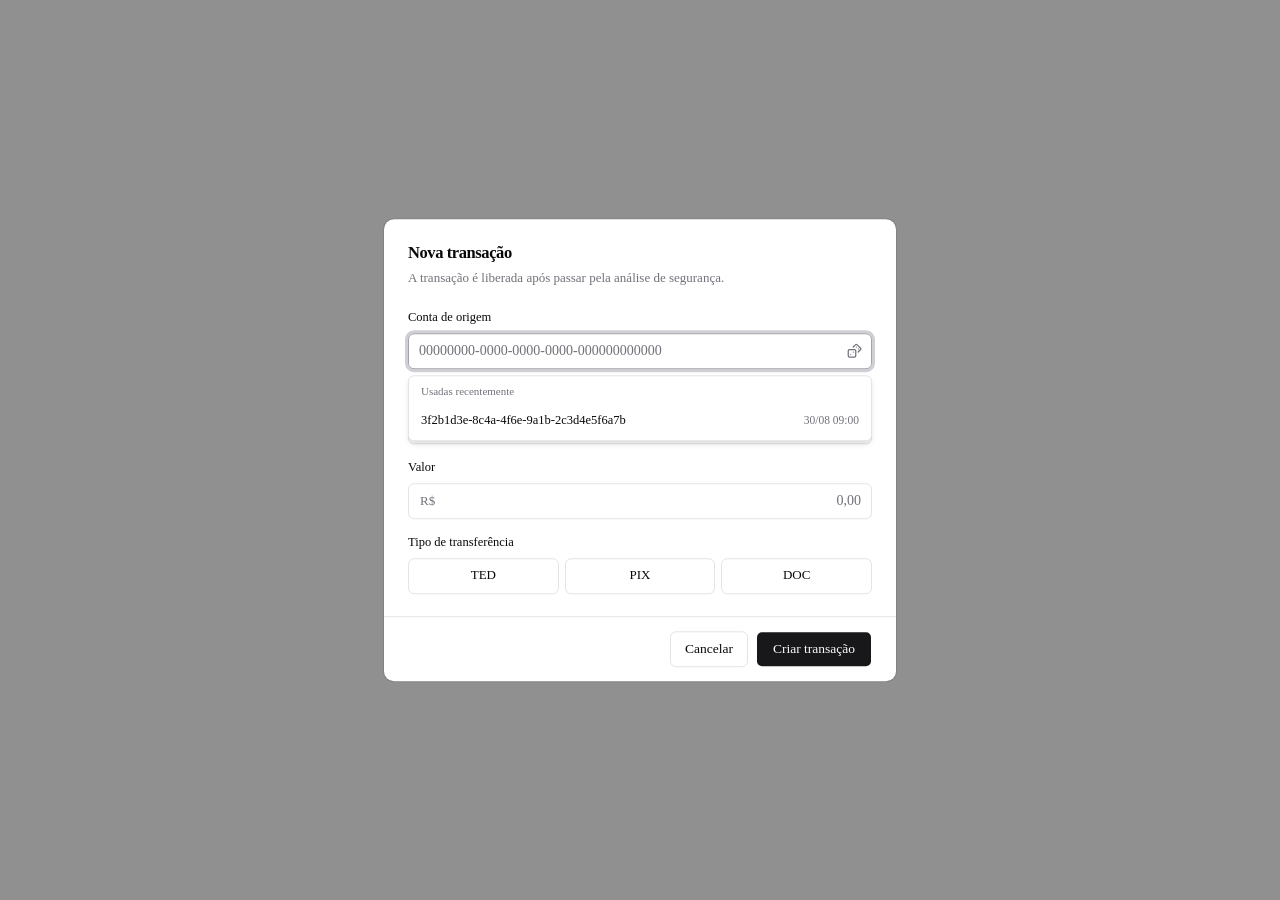
Test case: NewTransactionDialog › filtra a lista pelo que esta digitado e a fecha quando nada casa
Step 1. Type "3f2b" into the dropdown labelled "Conta de origem" → (640, 351), box [408,333,872,369]
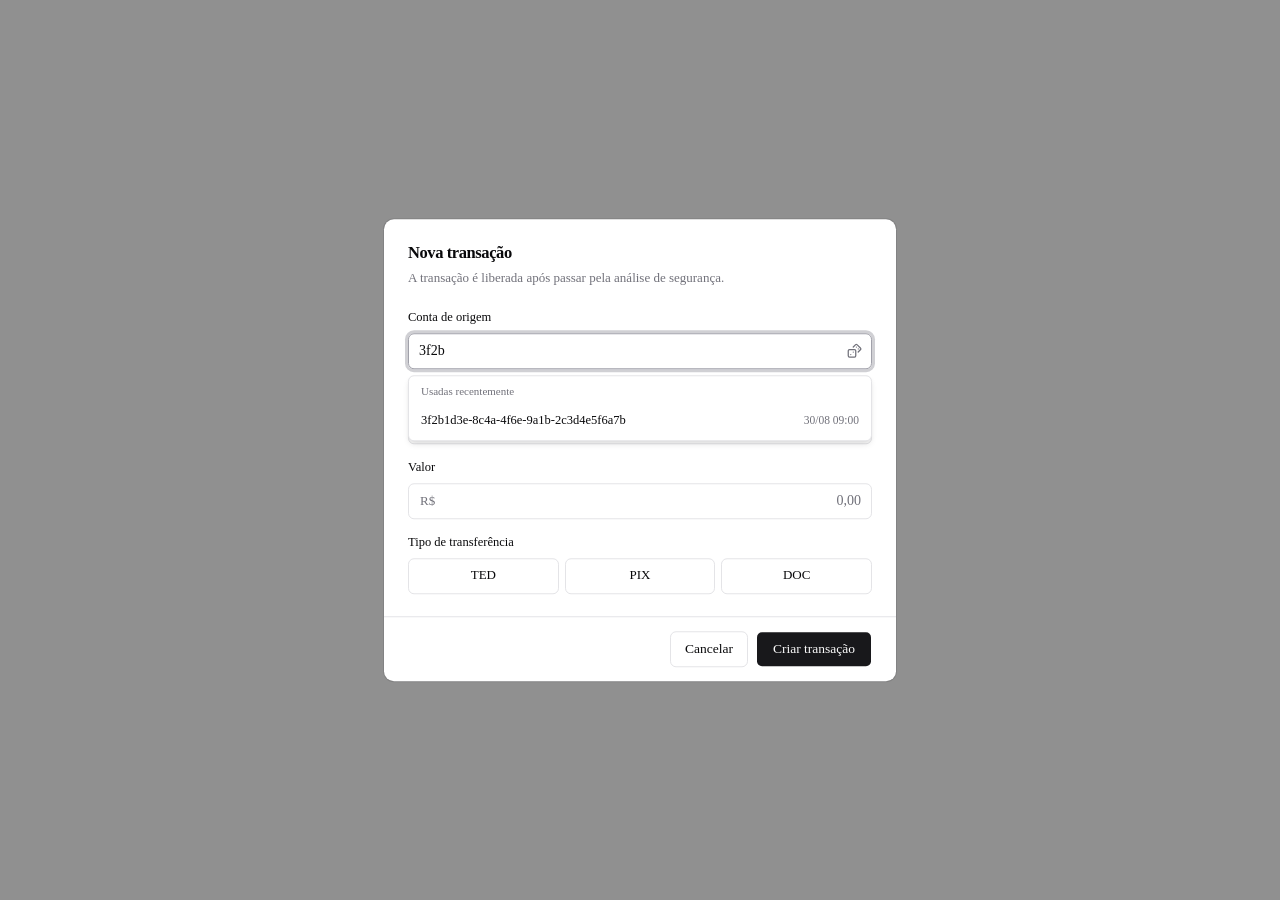
Step 2. Type "ffff" into the dropdown labelled "Conta de origem" → (640, 351), box [408,333,872,369]
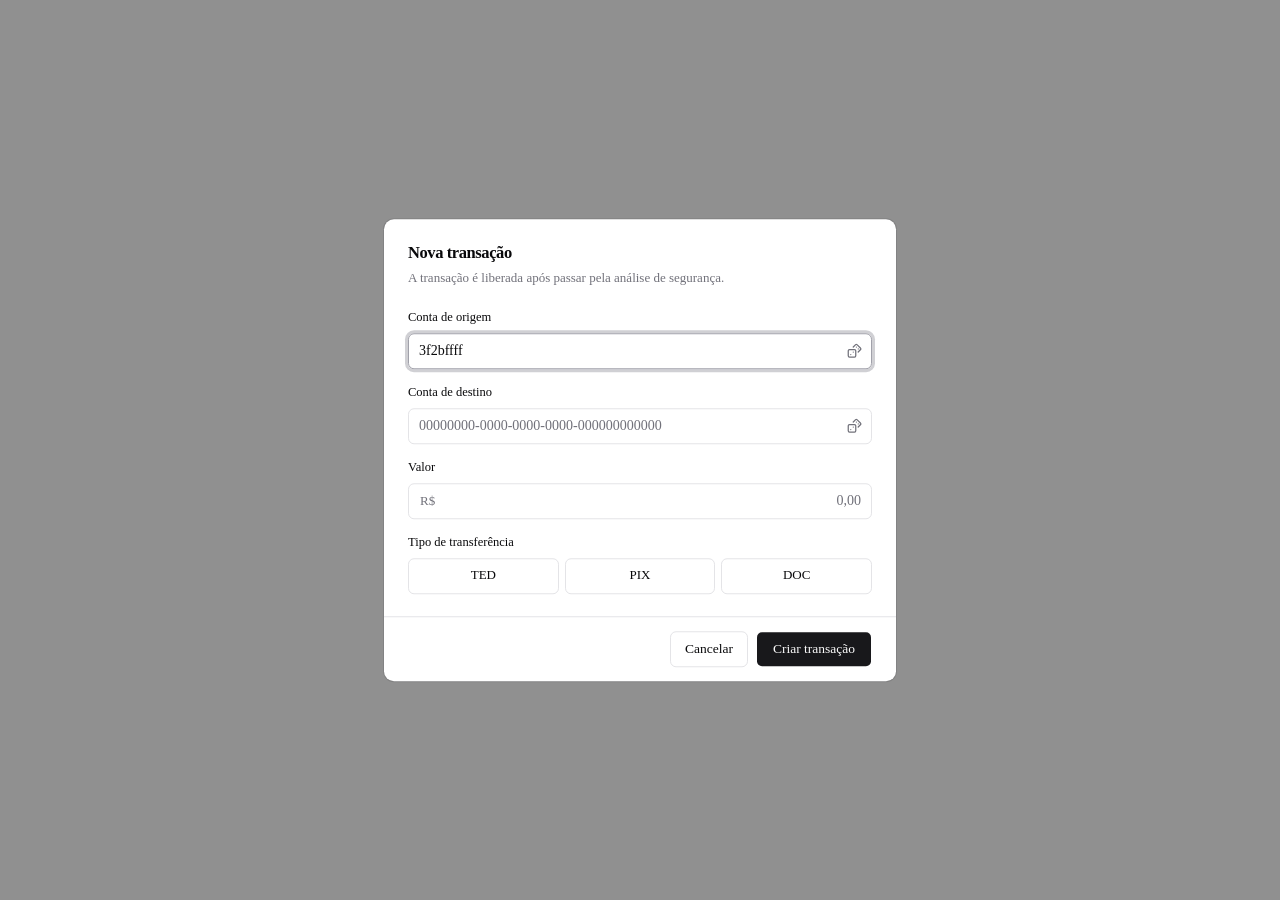
expect no options are shown: met
